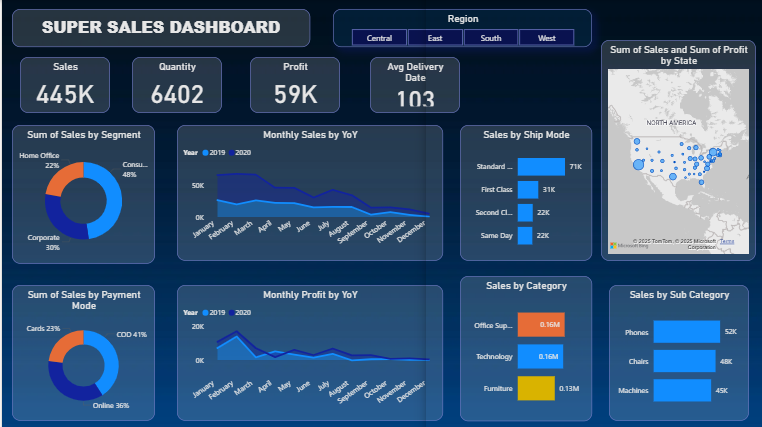

The page's visual inventory and layout, read from the dashboard file:
{"tool":"powerbi","page":{"name":"Page 1","canvas":[1280,720],"ordinal":0},"visuals":[{"type":"clusteredBarChart","title":"Sales by Category","fields":{"Category":["SuperStore_Sales_Dataset.Category"],"Y":["Sum(SuperStore_Sales_Dataset.Sales)"]},"box":[769.3,463.6,221.7,243.6],"z":0},{"type":"clusteredBarChart","title":"Sales by Sub Category","fields":{"Y":["Sum(SuperStore_Sales_Dataset.Sales)"],"Category":["SuperStore_Sales_Dataset.Sub-Category"]},"box":[1019.6,478.7,235.2,228.5],"z":1000},{"type":"clusteredBarChart","title":"Sales by Ship Mode","fields":{"Y":["Sum(SuperStore_Sales_Dataset.Sales)"],"Category":["SuperStore_Sales_Dataset.Ship Mode"]},"box":[769.3,210,221.7,228.5],"z":2000},{"type":"stackedAreaChart","title":"Monthly Sales by YoY","fields":{"Y":["Sum(SuperStore_Sales_Dataset.Sales)"],"Series":["SuperStore_Sales_Dataset.Order Date.Variation.Date Hierarchy.Year"],"Category":["SuperStore_Sales_Dataset.Order Date.Variation.Date Hierarchy.Month","SuperStore_Sales_Dataset.Order Date.Variation.Date Hierarchy.Day"]},"box":[294,210,446.8,228.5],"z":3000},{"type":"stackedAreaChart","title":"Monthly Profit by YoY","fields":{"Series":["SuperStore_Sales_Dataset.Order Date.Variation.Date Hierarchy.Year"],"Category":["SuperStore_Sales_Dataset.Order Date.Variation.Date Hierarchy.Month","SuperStore_Sales_Dataset.Order Date.Variation.Date Hierarchy.Day"],"Y":["Sum(SuperStore_Sales_Dataset.Profit)"]},"box":[294,478.7,446.8,228.5],"z":4000},{"type":"map","fields":{"Category":["SuperStore_Sales_Dataset.State"],"Size":["Sum(SuperStore_Sales_Dataset.Sales)"]},"box":[1006.2,67.2,260.4,371.2],"z":5000},{"type":"donutChart","fields":{"Category":["SuperStore_Sales_Dataset.Segment"],"Y":["Sum(SuperStore_Sales_Dataset.Sales)"]},"box":[16.8,210,240.2,233.5],"z":6000},{"type":"donutChart","fields":{"Category":["SuperStore_Sales_Dataset.Payment Mode"],"Y":["Sum(SuperStore_Sales_Dataset.Sales)"]},"box":[16.8,478.7,240.2,228.5],"z":7000},{"type":"slicer","title":"Region","fields":{"Values":["SuperStore_Sales_Dataset.Region"]},"box":[556,15.1,435.1,63.8],"z":8000},{"type":"textbox","box":[16.8,15.1,500.6,63.8],"z":9000},{"type":"card","title":"Sales","fields":{"Values":["Sum(SuperStore_Sales_Dataset.Sales)"]},"box":[30.2,95.7,151.2,94.1],"z":10000},{"type":"card","title":"Quantity","fields":{"Values":["Sum(SuperStore_Sales_Dataset.Quantity)"]},"box":[218.4,95.7,151.2,94.1],"z":11000},{"type":"card","title":"Profit","fields":{"Values":["Sum(SuperStore_Sales_Dataset.Profit)"]},"box":[416.6,95.7,151.2,94.1],"z":12000},{"type":"card","title":"Avg Delivery Date","fields":{"Values":["Avg(SuperStore_Sales_Dataset.AvgDelivery)"]},"box":[618.2,95.7,151.2,94.1],"z":13000}]}

Visuals, with their boxes in screenshot pixels (x1, y1, x2, y2), scaled from the page's 1280x720 canvas onto the 762x427 screenshot:
"Sales by Category" clusteredBarChart: <region>458, 275, 590, 419</region>
"Sales by Sub Category" clusteredBarChart: <region>607, 284, 747, 419</region>
"Sales by Ship Mode" clusteredBarChart: <region>458, 125, 590, 260</region>
"Monthly Sales by YoY" stackedAreaChart: <region>175, 125, 441, 260</region>
"Monthly Profit by YoY" stackedAreaChart: <region>175, 284, 441, 419</region>
map - SuperStore_Sales_Dataset.State x Sum(SuperStore_Sales_Dataset.Sales): <region>599, 40, 754, 260</region>
donutChart - SuperStore_Sales_Dataset.Segment x Sum(SuperStore_Sales_Dataset.Sales): <region>10, 125, 153, 263</region>
donutChart - SuperStore_Sales_Dataset.Payment Mode x Sum(SuperStore_Sales_Dataset.Sales): <region>10, 284, 153, 419</region>
"Region" slicer: <region>331, 9, 590, 47</region>
textbox: <region>10, 9, 308, 47</region>
"Sales" card: <region>18, 57, 108, 113</region>
"Quantity" card: <region>130, 57, 220, 113</region>
"Profit" card: <region>248, 57, 338, 113</region>
"Avg Delivery Date" card: <region>368, 57, 458, 113</region>
